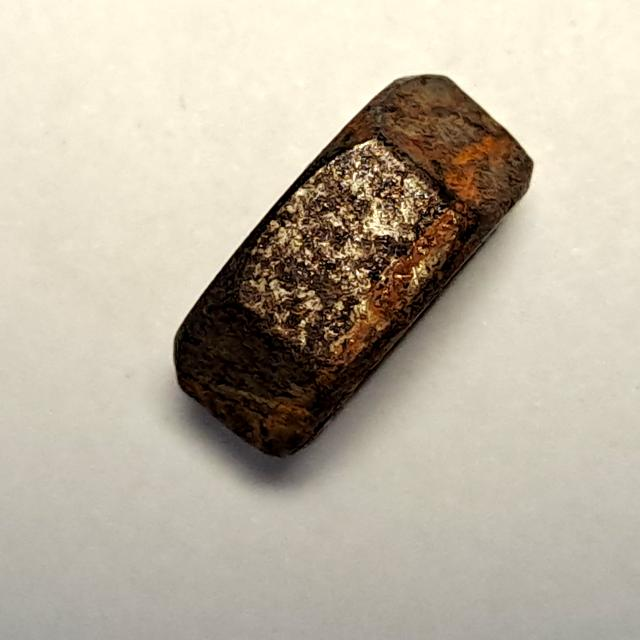Side_Rust: (162, 62, 545, 471)
